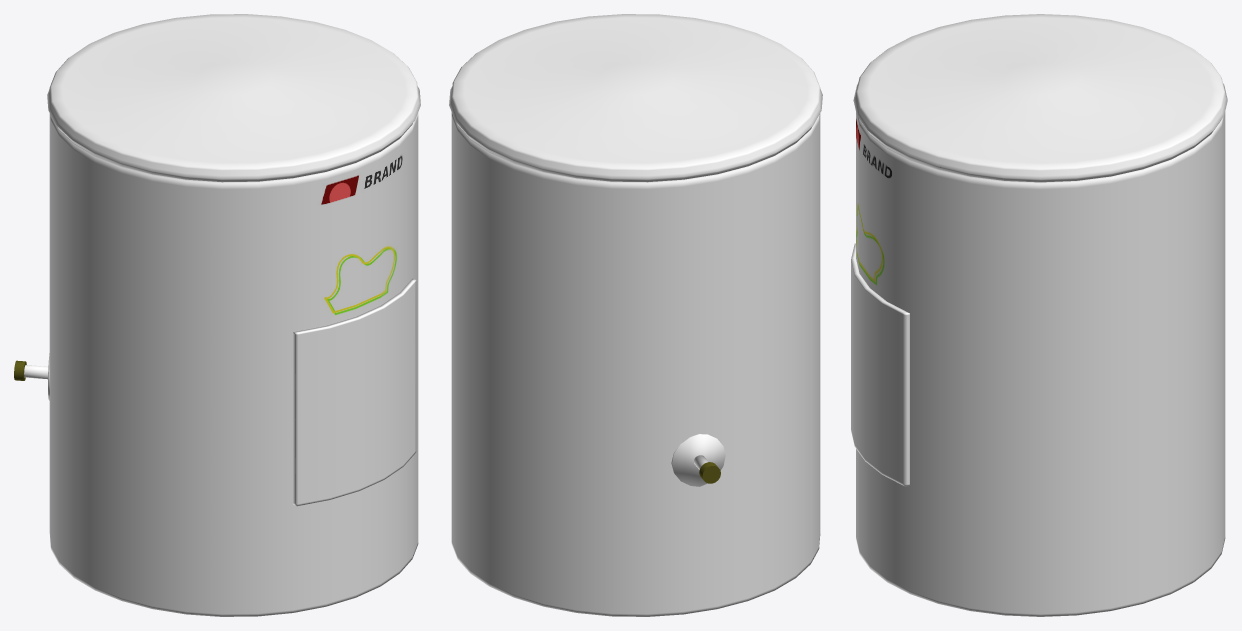
File: electric_water_heater.obj
3 views of the same model, side by side, from view 1: azimuth 30°, elevation 25°; view 2: azimuth 150°, elevation 25°; view 3: azimuth 270°, elevation 25° (orthographic).
Parts seen in each view (by area): view 1: electric-heater_Cylinder, electric-heater.001_Cylinder.003; view 2: electric-heater_Cylinder, round_Cylinder.001; view 3: electric-heater_Cylinder, electric-heater.001_Cylinder.003.
Part boxes in pixels (x1,y1,x2,y2): electric-heater_Cylinder: (47, 14, 420, 616); electric-heater.001_Cylinder.003: (293, 278, 416, 506); electric-heater_Cylinder: (449, 14, 822, 616); round_Cylinder.001: (671, 434, 725, 486); electric-heater_Cylinder: (853, 14, 1227, 616); electric-heater.001_Cylinder.003: (851, 243, 909, 486).
Bounding box in the file's own units: 45.63 × 61.94 × 45.91.
